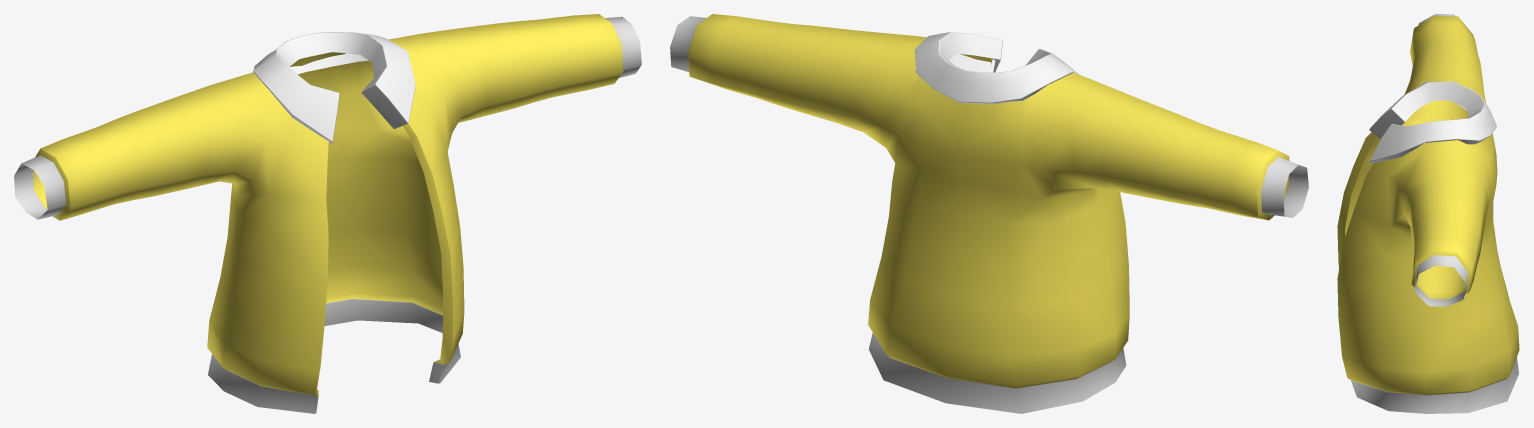
File: Outerwear_Yellow_002.glb
The picture shows the model from 3 angles, left to right: view 1: azimuth 30°, elevation 25°; view 2: azimuth 150°, elevation 25°; view 3: azimuth 270°, elevation 25°; orthographic projection. The views are drawn at different scales.
Visible parts, largest first — view 1: Outerwear_Yellow_002; view 2: Outerwear_Yellow_002; view 3: Outerwear_Yellow_002.
Boxes of the visible parts, x1=… form: Outerwear_Yellow_002: x1=14, y1=14, x2=641, y2=413; Outerwear_Yellow_002: x1=670, y1=14, x2=1308, y2=413; Outerwear_Yellow_002: x1=1337, y1=14, x2=1519, y2=413.
Bounding box in the file's own units: 1.29 × 0.6459 × 0.3903.
Materials: 1 (1 with a texture image).
